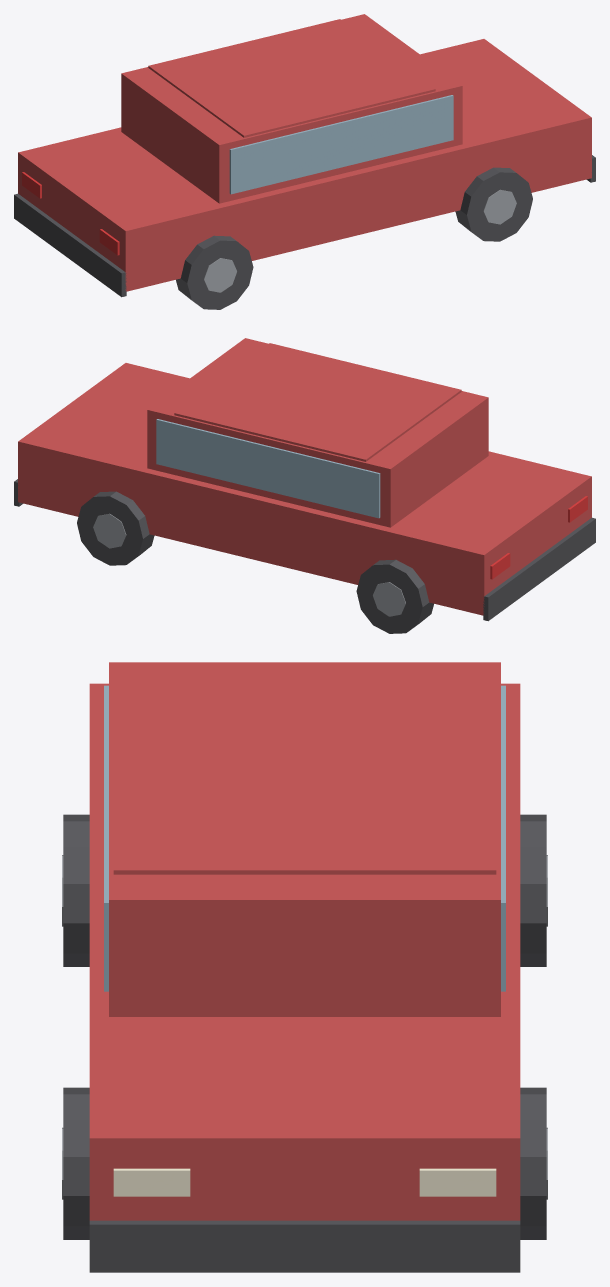
The model's file is dm_carsedanred.glb.
3 views of the same model, one above another, from view 1: azimuth 30°, elevation 25°; view 2: azimuth 150°, elevation 25°; view 3: azimuth 270°, elevation 25° (orthographic). The views are drawn at different scales.
Parts seen in each view (by area): view 1: carsedanred; view 2: carsedanred; view 3: carsedanred.
Boxes of the visible parts, bbox=[...] form: carsedanred: bbox=[14, 14, 595, 309]; carsedanred: bbox=[14, 338, 595, 633]; carsedanred: bbox=[62, 662, 547, 1272].
Size of the model in its own units: 4.58 by 1.44 by 2.03.
